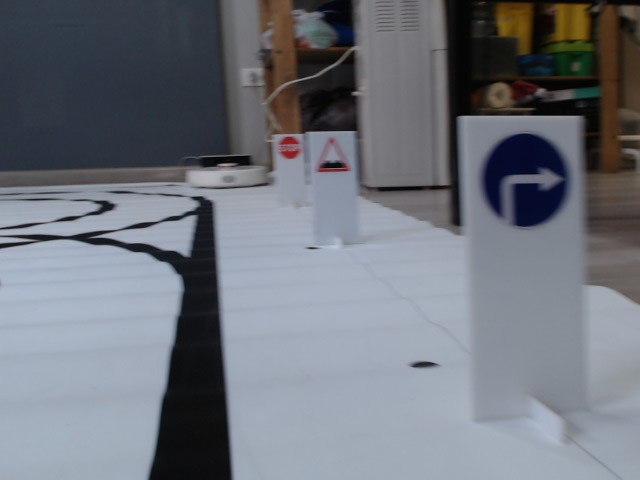Nerov: (315, 137, 352, 176)
Right: (479, 130, 569, 229)
Stop: (276, 136, 302, 160)
